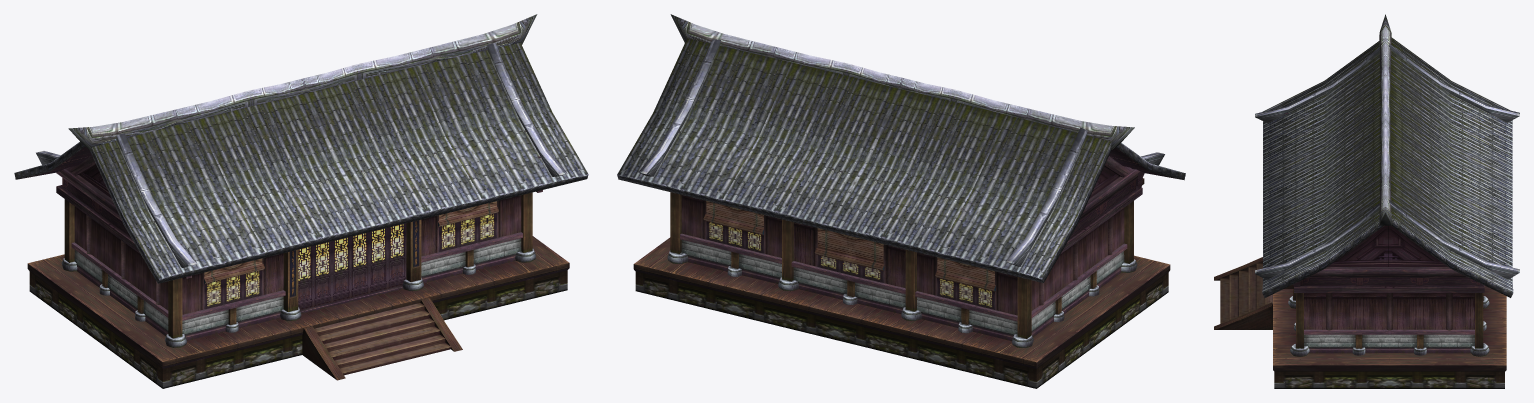
File: SWDS_building_03.FBX
The picture shows the model from 3 angles, left to right: view 1: azimuth 30°, elevation 25°; view 2: azimuth 150°, elevation 25°; view 3: azimuth 270°, elevation 25°; orthographic projection. The views are drawn at different scales.
Parts seen in each view (by area): view 1: SWDS_building_03; view 2: SWDS_building_03; view 3: SWDS_building_03.
Part boxes in pixels (left/top/right/bottom): SWDS_building_03: left=14, top=14, right=588, bottom=388; SWDS_building_03: left=617, top=14, right=1185, bottom=388; SWDS_building_03: left=1214, top=14, right=1519, bottom=388.
Bounding box in the file's own units: 2103 × 946 × 1371.
